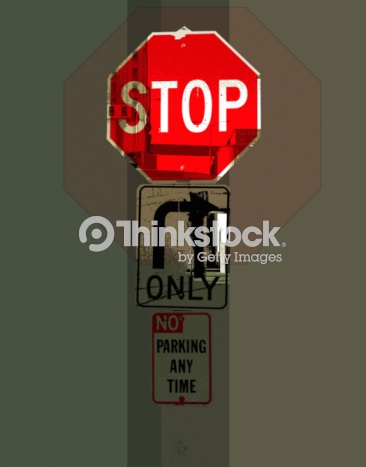stopsign: (107, 30, 262, 186)
